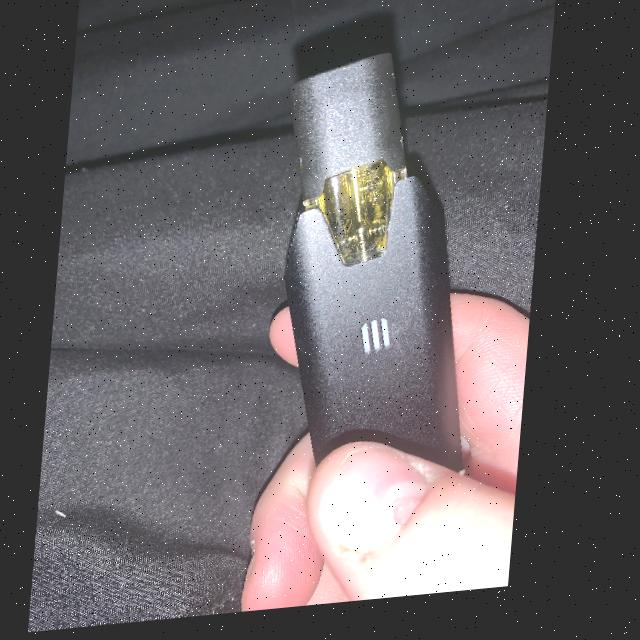vape: (263, 49, 504, 502)
